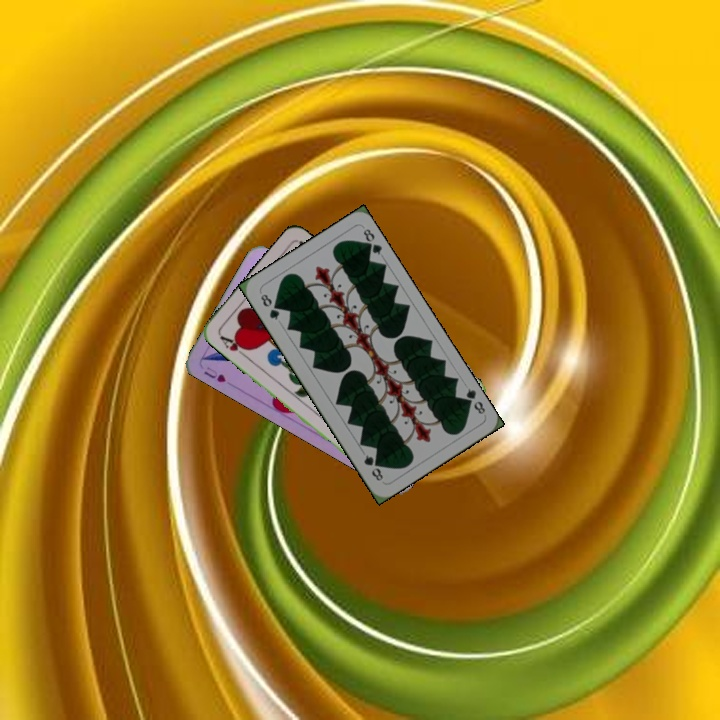G8: (459, 384, 488, 417), (256, 290, 282, 323)
HA: (216, 331, 252, 360)
HU: (200, 362, 229, 385)
